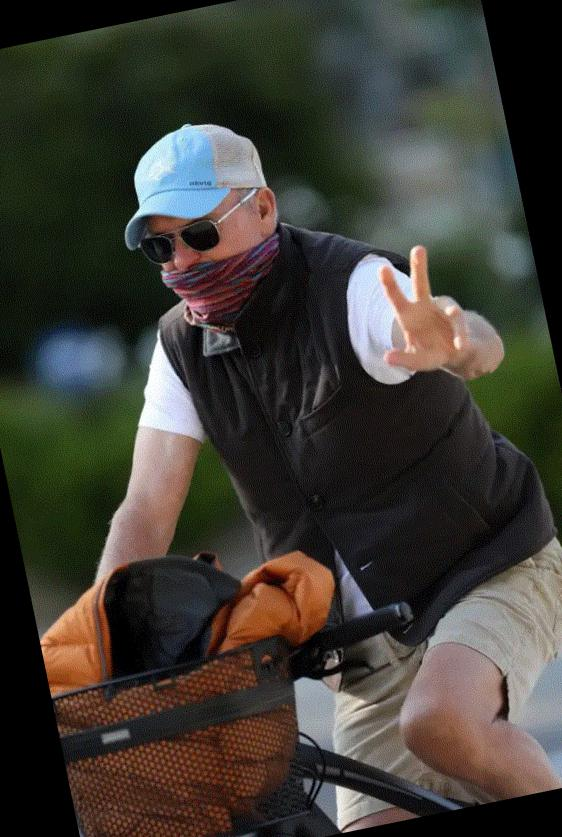mask_weared_incorrect: (135, 207, 284, 311)
